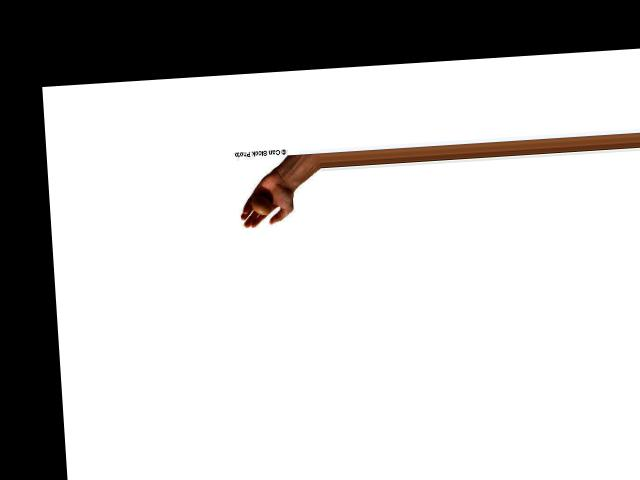egg: (250, 194, 270, 215)
